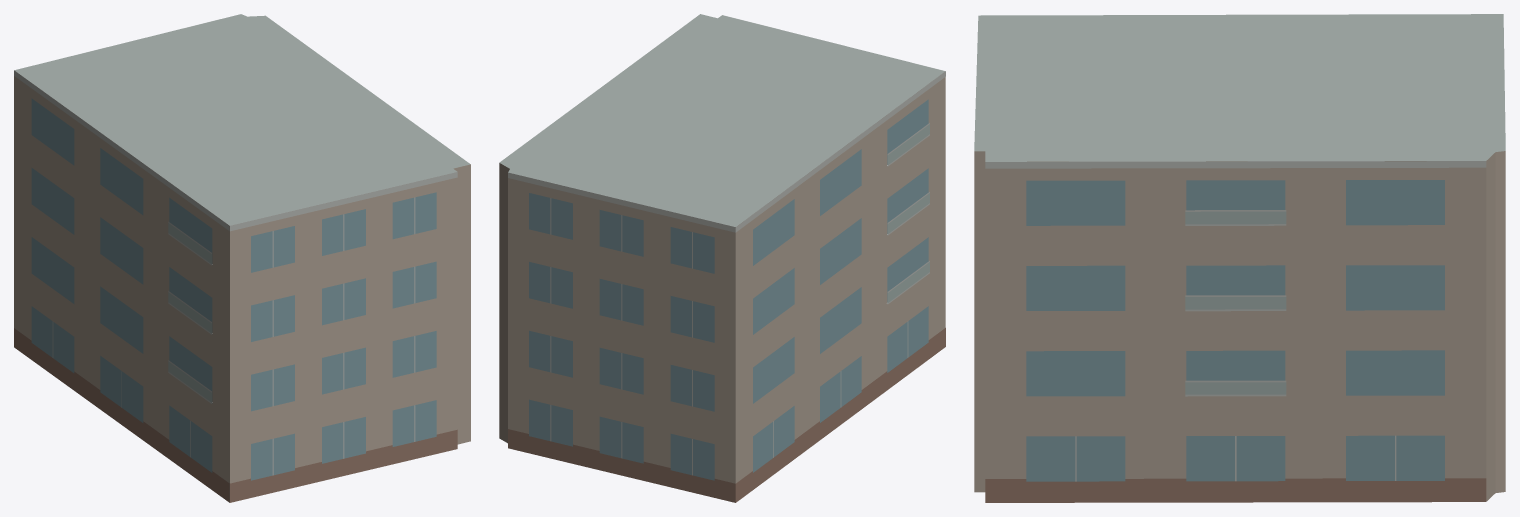
File: survey-upis-32551904.glb
3 renders of one model, left to right at view 1: azimuth 30°, elevation 25°; view 2: azimuth 150°, elevation 25°; view 3: azimuth 270°, elevation 25°, orthographic. The views are drawn at different scales.
Parts seen in each view (by area): view 1: survey-upis-32551904.tmp; view 2: survey-upis-32551904.tmp; view 3: survey-upis-32551904.tmp.
Boxes of the visible parts, x1,y1,x2,y2 form: survey-upis-32551904.tmp: [14, 14, 470, 502]; survey-upis-32551904.tmp: [499, 14, 945, 502]; survey-upis-32551904.tmp: [974, 14, 1505, 502].
Size of the model in its own units: 11.36 by 12.2 by 17.25.
